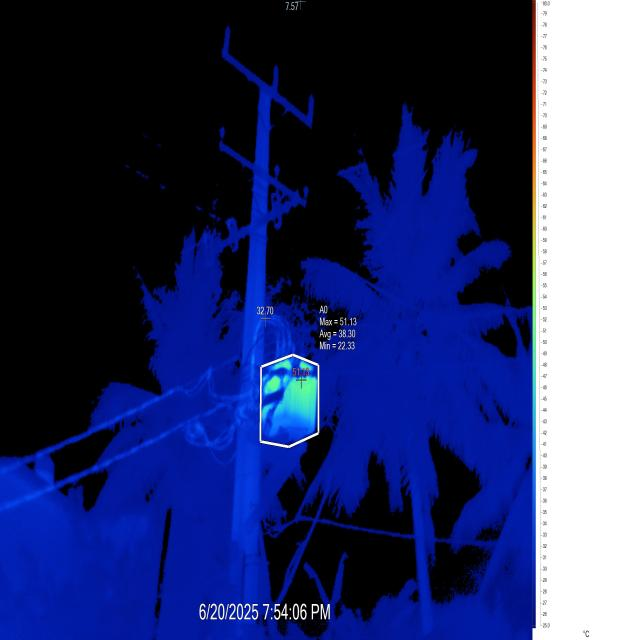Transformer: (5, 14, 334, 640)
